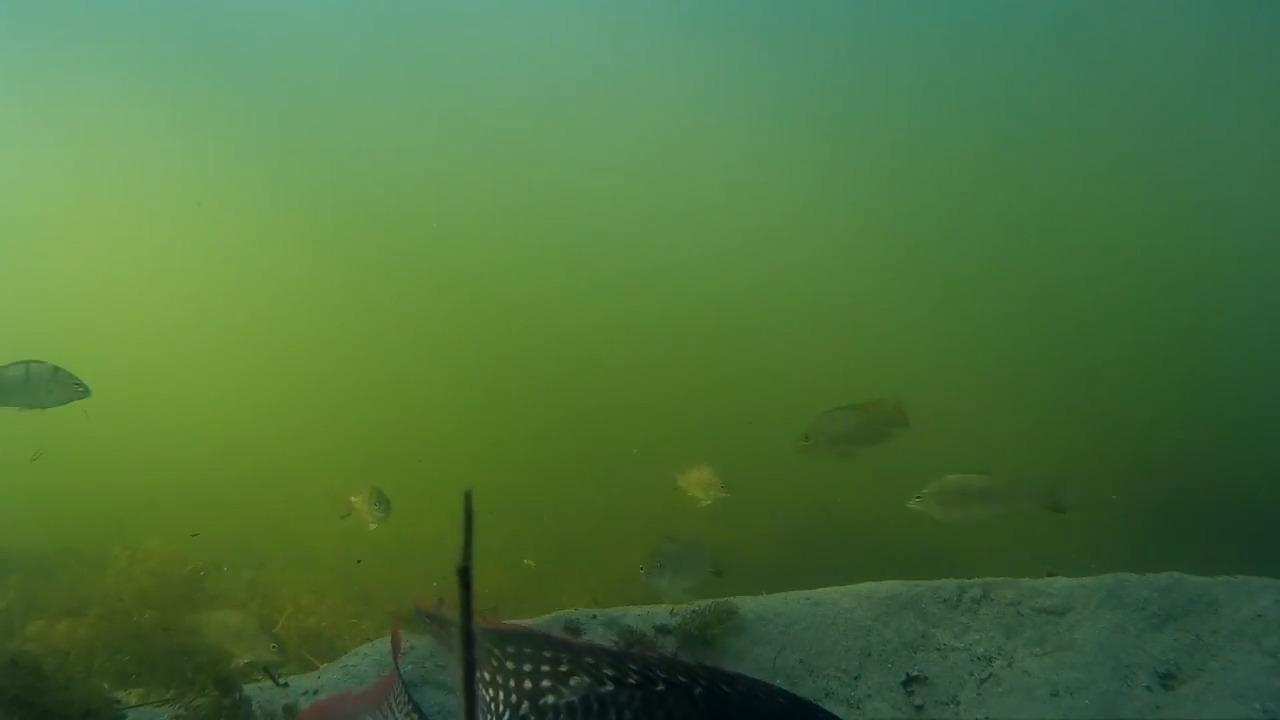Tilapia: (761, 380, 902, 464), (904, 478, 1085, 532), (640, 542, 735, 612), (0, 358, 95, 422), (332, 476, 391, 556), (673, 448, 736, 510), (0, 384, 17, 390)
